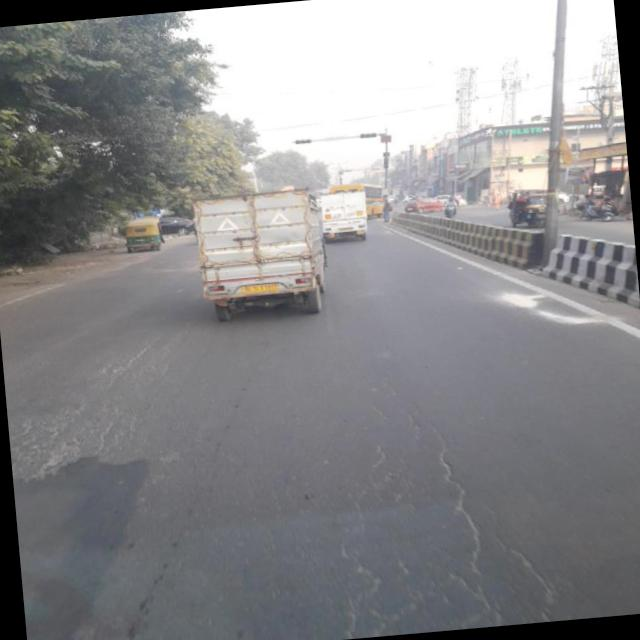crack: (280, 346, 544, 640), (3, 337, 178, 484)
